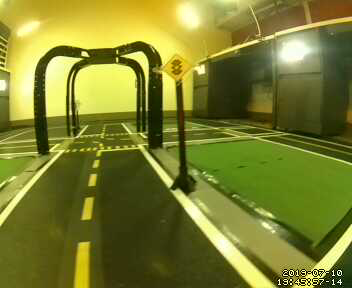Traffic light sign: (164, 52, 192, 82)
